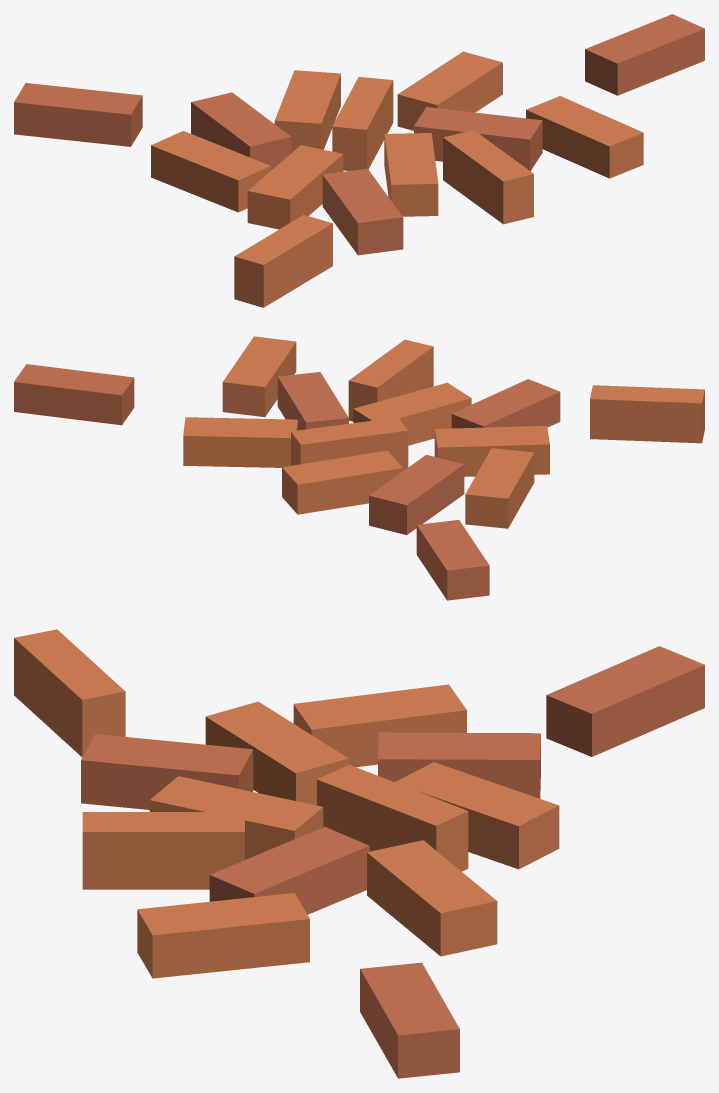
Rendered from Brick_Pile_m_08.fbx.
The picture shows the model from 3 angles, top to bottom: view 1: azimuth 30°, elevation 25°; view 2: azimuth 150°, elevation 25°; view 3: azimuth 270°, elevation 25°; orthographic projection. The views are drawn at different scales.
Visible parts, largest first — view 1: Brick_Pile_m_08; view 2: Brick_Pile_m_08; view 3: Brick_Pile_m_08.
Boxes of the visible parts, x1,y1,x2,y2 form: Brick_Pile_m_08: (14, 14, 704, 307); Brick_Pile_m_08: (14, 336, 704, 600); Brick_Pile_m_08: (14, 629, 704, 1078).
Size of the model in its own units: 1.46 by 0.1 by 1.09.
